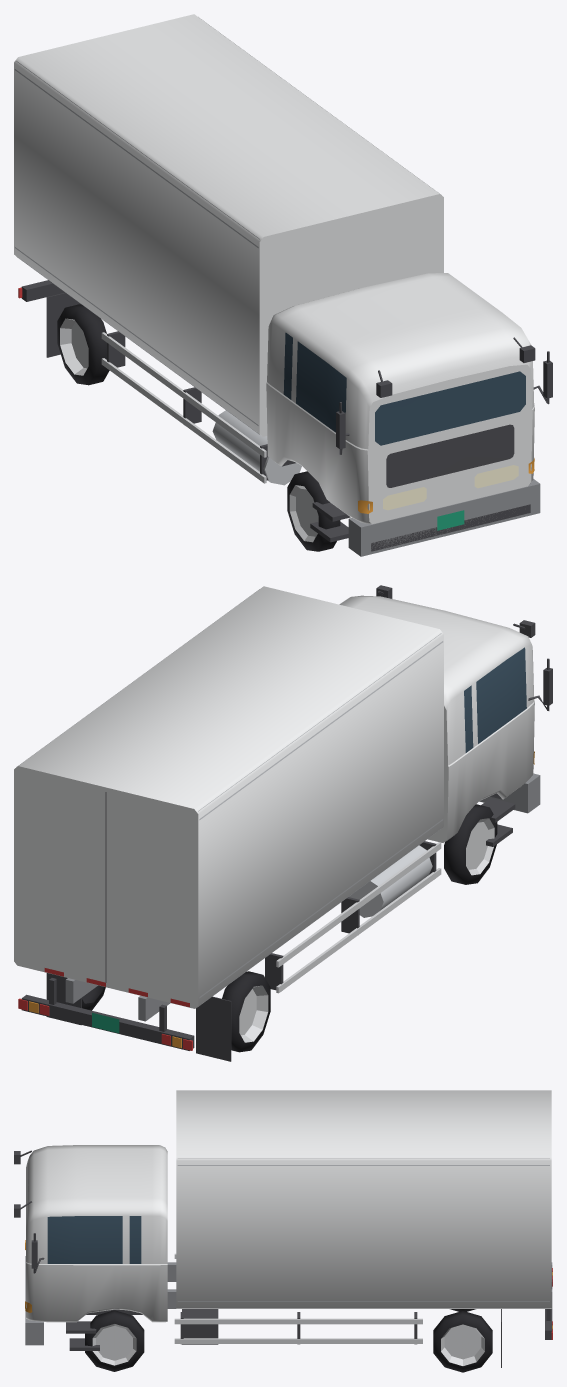
The picture shows the model from 3 angles, top to bottom: view 1: azimuth 30°, elevation 25°; view 2: azimuth 150°, elevation 25°; view 3: azimuth 270°, elevation 25°; orthographic projection. The views are drawn at different scales.
Parts seen in each view (by area): view 1: 11_0; view 2: 11_0; view 3: 11_0.
Part boxes in pixels (x1,y1,x2,y2): 11_0: (14,14,552,556); 11_0: (14,585,552,1061); 11_0: (14,1090,552,1372).
Size of the model in its own units: 2.59 by 3.3 by 7.42.
